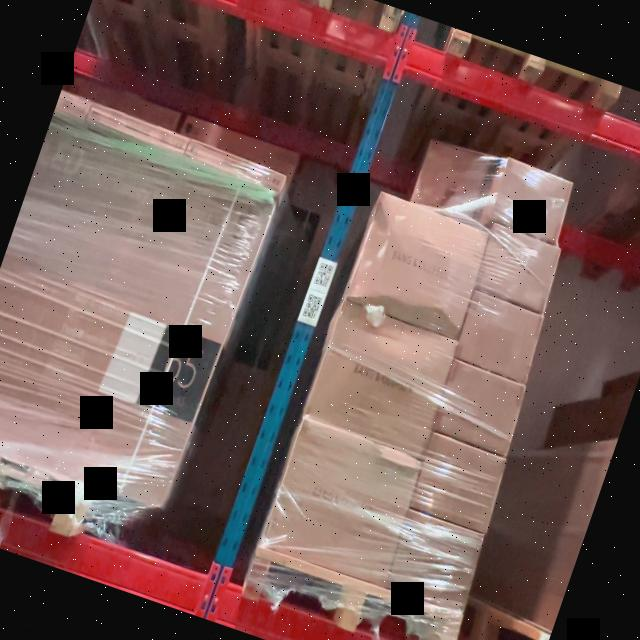box: (262, 420, 422, 584), (305, 300, 459, 456), (345, 193, 491, 337), (388, 512, 482, 610), (410, 436, 504, 528), (434, 362, 525, 452), (455, 294, 543, 378), (180, 114, 299, 174), (490, 159, 574, 242), (476, 228, 560, 306), (411, 140, 490, 220)
